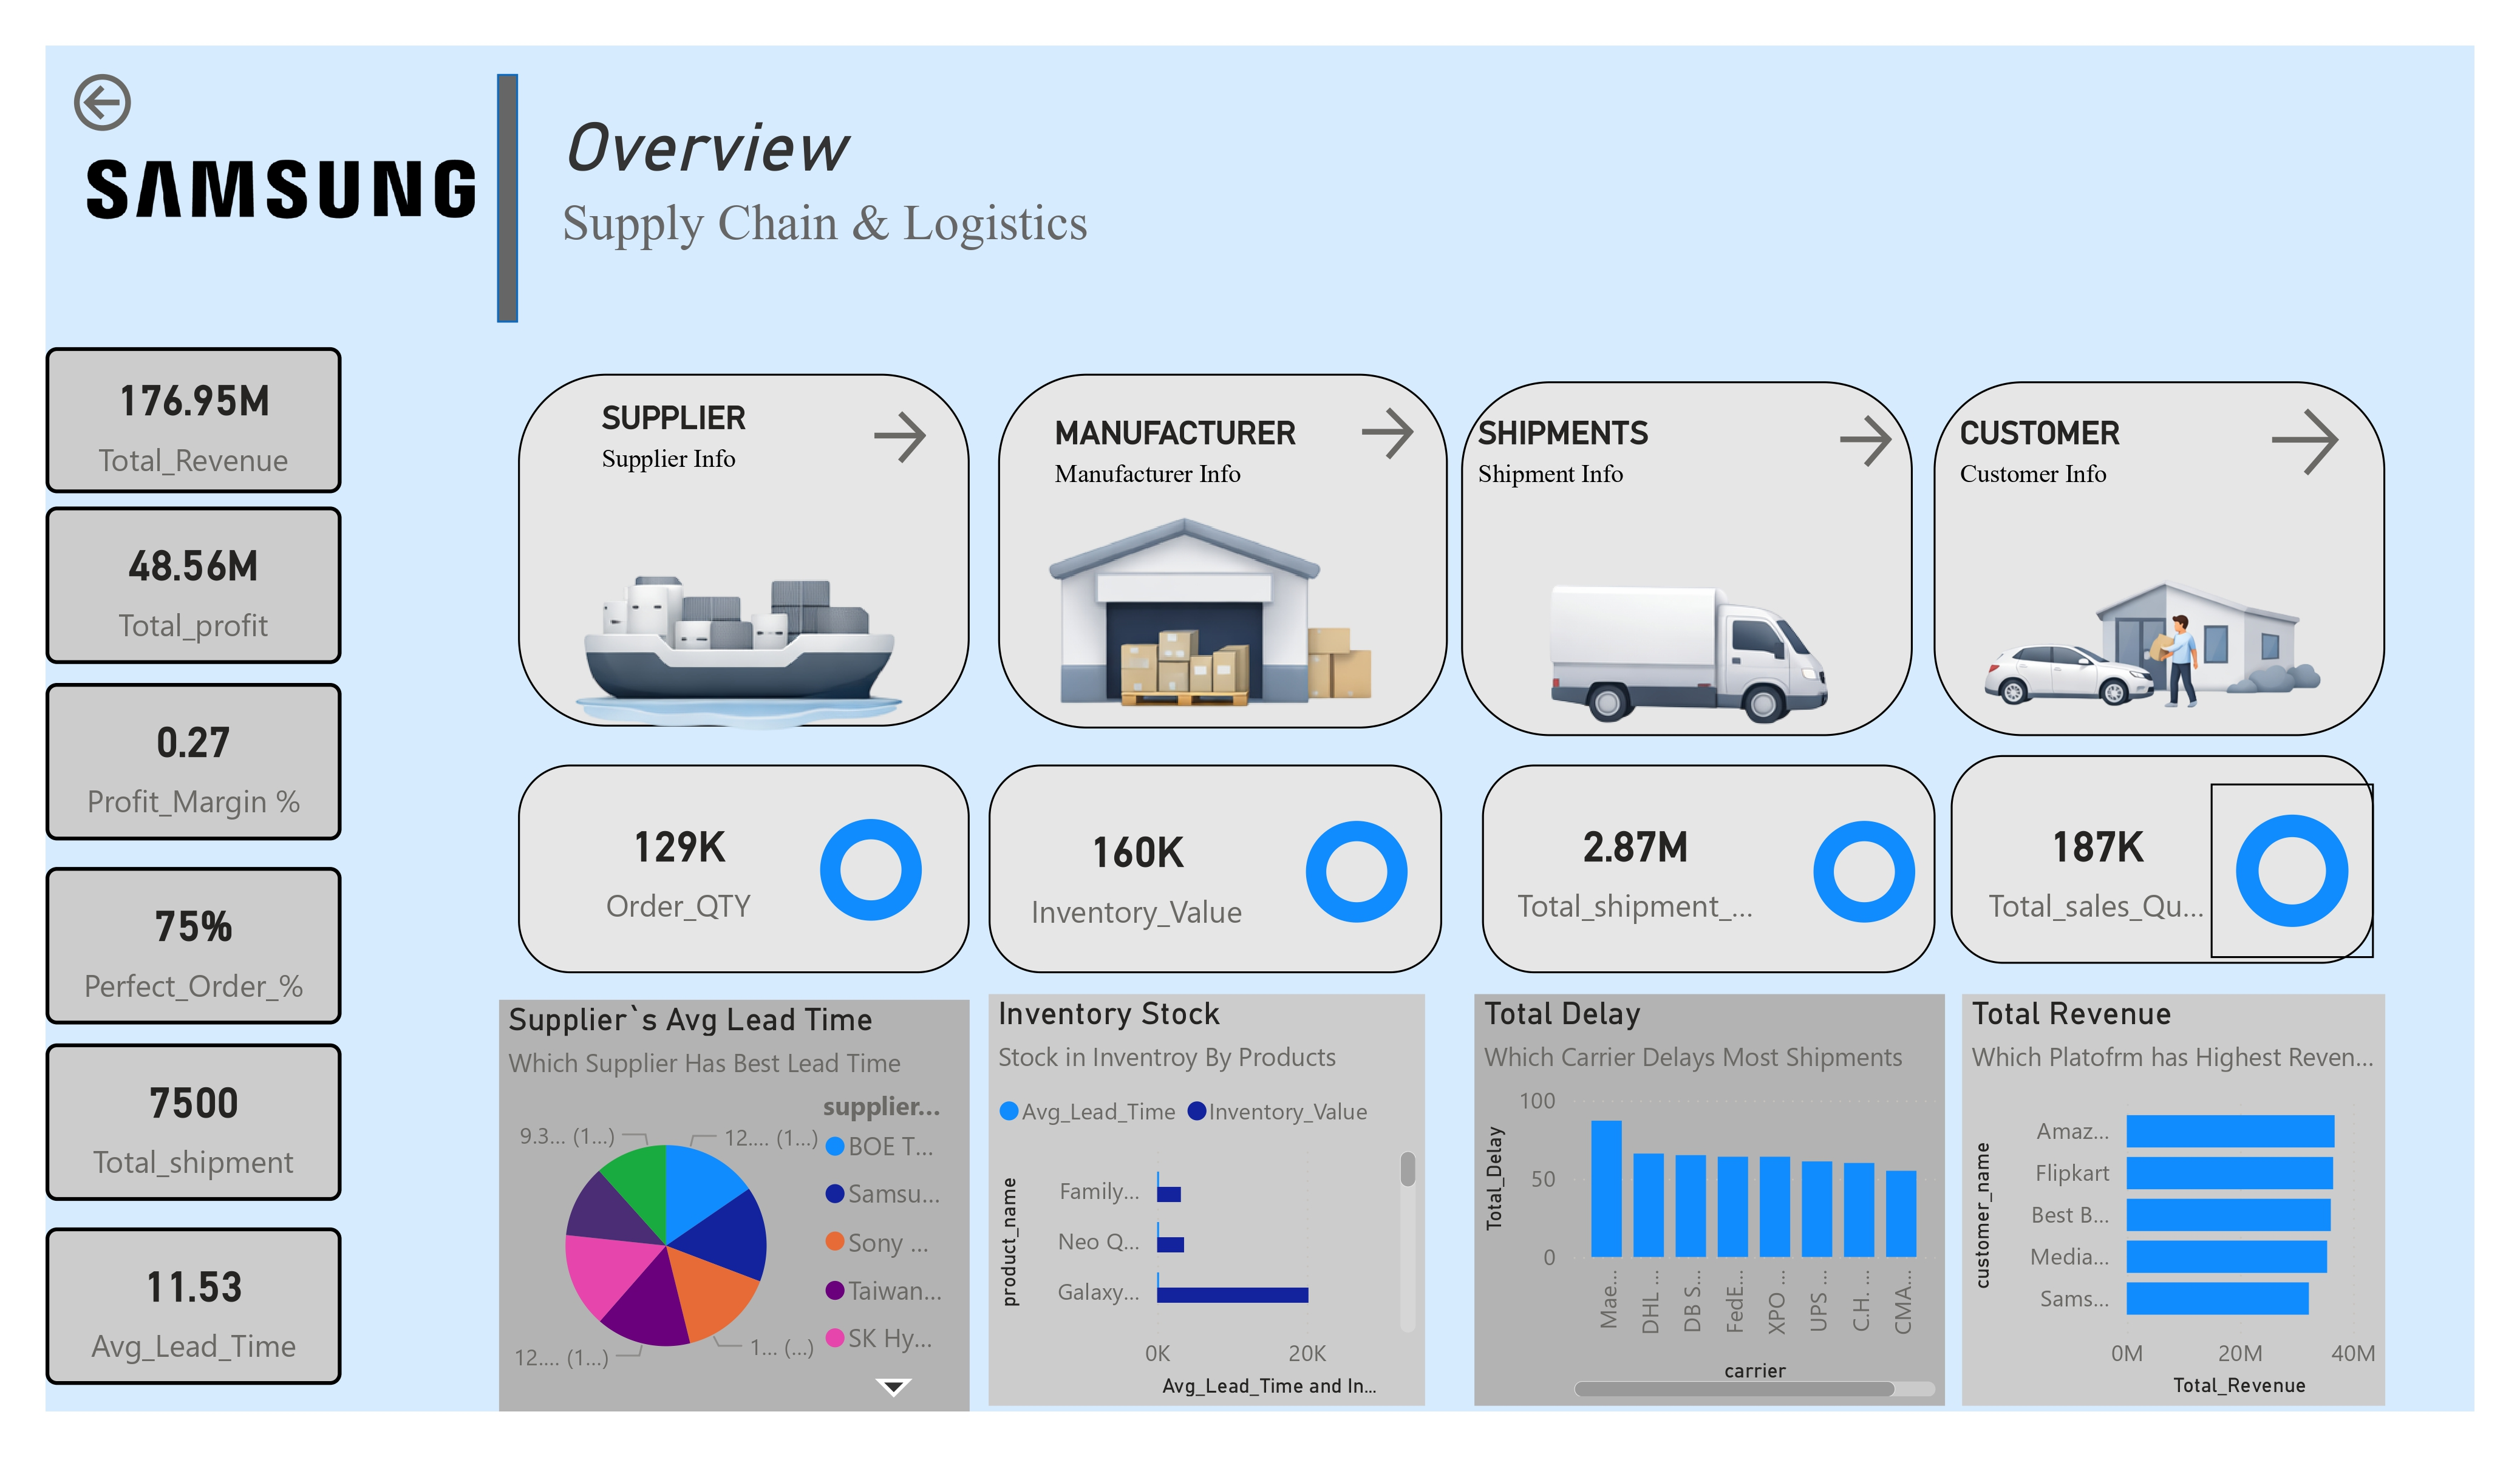

Layout of this report page (visuals, bound fields, positions):
{"tool":"powerbi","page":{"name":"Overview","canvas":[1280,720],"ordinal":1},"visuals":[{"type":"shape","box":[249.1,172.9,237.4,186.6],"z":0},{"type":"shape","box":[501.6,173.4,237.4,186.6],"z":1000},{"type":"shape","box":[995.2,177.2,237.4,186.6],"z":2000},{"type":"shape","box":[746.3,177.2,237.4,186.6],"z":3000},{"type":"image","box":[255.2,232.7,211.3,155.1],"z":4000},{"type":"image","box":[512.6,207.7,212.7,167.4],"z":5000},{"type":"image","box":[774.2,244.3,178.4,140],"z":6000},{"type":"image","box":[1009.4,235.3,211.3,155.1],"z":7000},{"type":"actionButton","box":[430.5,186.3,37,39.8],"z":8000},{"type":"actionButton","box":[688.3,184.4,37,39.8],"z":9000},{"type":"actionButton","box":[939.6,184.6,37,46.7],"z":10000},{"type":"actionButton","box":[1167.2,185.8,53.5,46.7],"z":11000},{"type":"shape","title":"MANUFACTURER","box":[531.8,194,133.1,59],"z":12000},{"type":"shape","title":"SHIPMENTS ","box":[755.5,194,133.1,59],"z":13000},{"type":"shape","title":"CUSTOMER","box":[1009.4,194,133.1,59],"z":14000},{"type":"shape","title":"SUPPLIER","box":[293.1,185.8,133.1,59],"z":15000},{"type":"shape","title":"Overview","box":[272,32,944,128],"z":16000},{"type":"image","box":[0,0,237.5,148.8],"z":17000},{"type":"shape","box":[237.5,15,11.2,131.2],"z":18000},{"type":"card","fields":{"Values":["MEASURES_TABLE.Perfect_Order_%"]},"box":[0,432.9,155.7,82.9],"z":19000},{"type":"card","fields":{"Values":["MEASURES_TABLE.Total_profit"]},"box":[0,242.9,155.7,82.9],"z":20000},{"type":"card","fields":{"Values":["MEASURES_TABLE.Total_shipment"]},"box":[0,525.7,155.7,82.9],"z":21000},{"type":"card","fields":{"Values":["MEASURES_TABLE.Avg_Lead_Time"]},"box":[0,622.9,155.7,82.9],"z":22000},{"type":"card","fields":{"Values":["MEASURES_TABLE.Profit_Margin %"]},"box":[0,335.7,155.7,82.9],"z":23000},{"type":"card","fields":{"Values":["MEASURES_TABLE.Total_Revenue"]},"box":[0,158.6,155.7,77.1],"z":24000},{"type":"shape","box":[248.6,378.6,238.6,110],"z":25000},{"type":"shape","box":[497.1,378.6,238.6,110],"z":26000},{"type":"shape","box":[757.1,378.6,238.6,110],"z":27000},{"type":"shape","box":[1004.3,374.3,222.9,110],"z":28000},{"type":"card","fields":{"Values":["MEASURES_TABLE.Order_QTY"]},"box":[255.7,394.3,155.7,77.1],"z":29000},{"type":"card","fields":{"Values":["MEASURES_TABLE.Total_shipment_Quantity"]},"box":[767.1,394.3,141.4,77.1],"z":30000},{"type":"card","fields":{"Values":["MEASURES_TABLE.Inventory_Value"]},"box":[497.1,397.1,155.7,77.1],"z":31000},{"type":"card","fields":{"Values":["MEASURES_TABLE.Total_sales_Quantity"]},"box":[1018.6,394.3,124.3,77.1],"z":32000},{"type":"pieChart","title":"Supplier`s Avg Lead Time","fields":{"Category":["dim_supplier.supplier_name"],"Y":["MEASURES_TABLE.Avg_Lead_Time"]},"box":[238.6,502.9,248.6,217.1],"z":33000},{"type":"clusteredBarChart","title":"Inventory Stock","fields":{"Y":["MEASURES_TABLE.Avg_Lead_Time","MEASURES_TABLE.Inventory_Value"],"Category":["dim_product.product_name"]},"box":[497.1,500,230,217.1],"z":34000},{"type":"columnChart","title":"Total Delay","fields":{"Category":["fact_shipment.carrier"],"Y":["MEASURES_TABLE.Total_Delay"]},"box":[752.9,500,248.6,217.1],"z":35000},{"type":"clusteredBarChart","title":"Total Revenue","fields":{"Y":["MEASURES_TABLE.Total_Revenue"],"Category":["dim_customer.customer_name"]},"box":[1010,500,222.9,217.1],"z":36000},{"type":"donutChart","fields":{"Y":["MEASURES_TABLE.Inventory_Value"]},"box":[612.9,397.1,155.7,77.1],"z":37000},{"type":"donutChart","fields":{"Y":["MEASURES_TABLE.Total_shipment_Quantity"]},"box":[862.9,397.1,191.4,77.1],"z":38000},{"type":"donutChart","fields":{"Y":["MEASURES_TABLE.Total_sales_Quantity"]},"box":[1141.4,388.6,85.7,92.9],"z":39000},{"type":"donutChart","fields":{"Y":["MEASURES_TABLE.Order_QTY"]},"box":[357.1,395.7,155.7,77.1],"z":40000},{"type":"actionButton","box":[10,10,100,40],"z":41000}]}

Visuals, with their boxes in screenshot pixels (x1, y1, x2, y2):
shape: <region>518, 373, 969, 727</region>
shape: <region>997, 375, 1448, 728</region>
shape: <region>1934, 382, 2385, 736</region>
shape: <region>1462, 382, 1912, 736</region>
image: <region>530, 487, 931, 781</region>
image: <region>1018, 440, 1422, 757</region>
image: <region>1514, 509, 1853, 775</region>
image: <region>1961, 492, 2362, 786</region>
actionButton: <region>862, 399, 933, 475</region>
actionButton: <region>1352, 395, 1422, 471</region>
actionButton: <region>1828, 396, 1899, 484</region>
actionButton: <region>2260, 398, 2362, 487</region>
"MANUFACTURER" shape: <region>1055, 413, 1307, 526</region>
"SHIPMENTS " shape: <region>1479, 413, 1732, 526</region>
"CUSTOMER" shape: <region>1961, 413, 2213, 526</region>
"SUPPLIER" shape: <region>602, 398, 854, 510</region>
"Overview" shape: <region>562, 106, 2353, 349</region>
image: <region>46, 46, 496, 328</region>
shape: <region>496, 74, 517, 323</region>
card - MEASURES_TABLE.Perfect_Order_%: <region>46, 867, 341, 1024</region>
card - MEASURES_TABLE.Total_profit: <region>46, 506, 341, 664</region>
card - MEASURES_TABLE.Total_shipment: <region>46, 1043, 341, 1200</region>
card - MEASURES_TABLE.Avg_Lead_Time: <region>46, 1228, 341, 1385</region>
card - MEASURES_TABLE.Profit_Margin %: <region>46, 682, 341, 840</region>
card - MEASURES_TABLE.Total_Revenue: <region>46, 347, 341, 493</region>
shape: <region>517, 764, 970, 973</region>
shape: <region>989, 764, 1442, 973</region>
shape: <region>1482, 764, 1935, 973</region>
shape: <region>1951, 756, 2374, 964</region>
card - MEASURES_TABLE.Order_QTY: <region>531, 793, 826, 940</region>
card - MEASURES_TABLE.Total_shipment_Quantity: <region>1501, 793, 1769, 940</region>
card - MEASURES_TABLE.Inventory_Value: <region>989, 799, 1284, 945</region>
card - MEASURES_TABLE.Total_sales_Quantity: <region>1978, 793, 2215, 940</region>
"Supplier`s Avg Lead Time" pieChart: <region>499, 1000, 970, 1411</region>
"Inventory Stock" clusteredBarChart: <region>989, 994, 1425, 1406</region>
"Total Delay" columnChart: <region>1474, 994, 1946, 1406</region>
"Total Revenue" clusteredBarChart: <region>1962, 994, 2385, 1406</region>
donutChart - MEASURES_TABLE.Inventory_Value: <region>1208, 799, 1504, 945</region>
donutChart - MEASURES_TABLE.Total_shipment_Quantity: <region>1683, 799, 2046, 945</region>
donutChart - MEASURES_TABLE.Total_sales_Quantity: <region>2212, 783, 2374, 959</region>
donutChart - MEASURES_TABLE.Order_QTY: <region>723, 796, 1018, 942</region>
actionButton: <region>64, 64, 254, 140</region>
